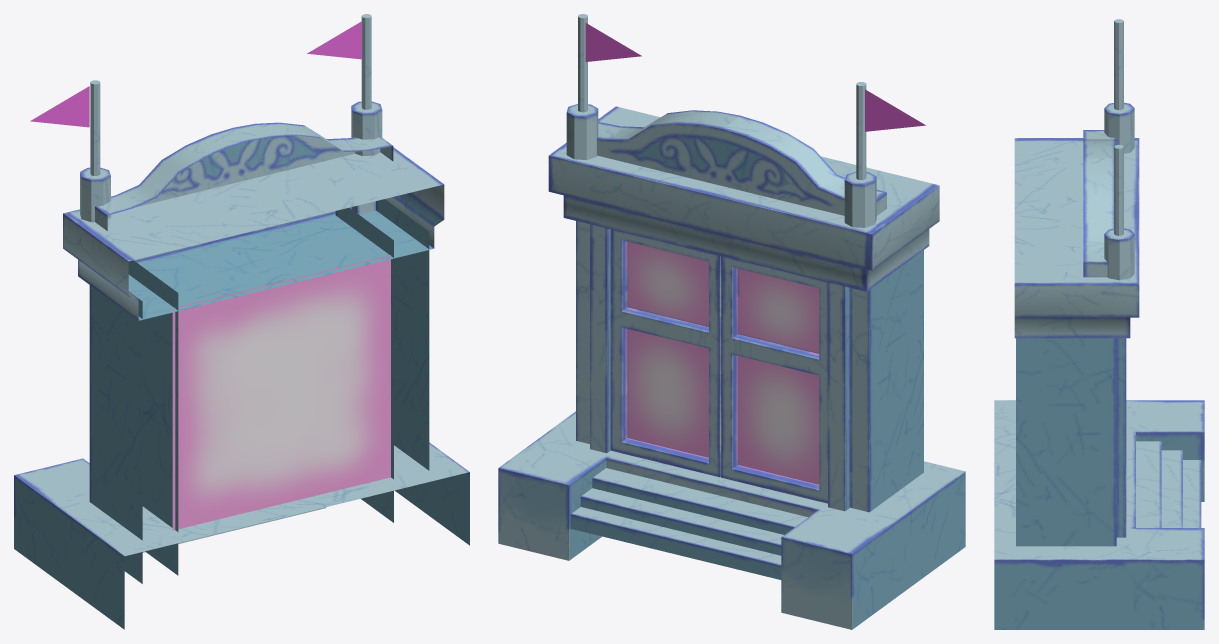
File: Goal_Close.fbx
3 renders of one model, left to right at view 1: azimuth 30°, elevation 25°; view 2: azimuth 150°, elevation 25°; view 3: azimuth 270°, elevation 25°, orthographic. The views are drawn at different scales.
Visible parts, largest first — view 1: polySurface4; view 2: polySurface4; view 3: polySurface4.
Boxes of the visible parts, left/top/right/bottom form: polySurface4: left=14, top=14, right=469, bottom=629; polySurface4: left=498, top=14, right=965, bottom=629; polySurface4: left=994, top=19, right=1204, bottom=629.
Size of the model in its own units: 1.19 by 1.5 by 0.6127.
1 material, 1 textured.
